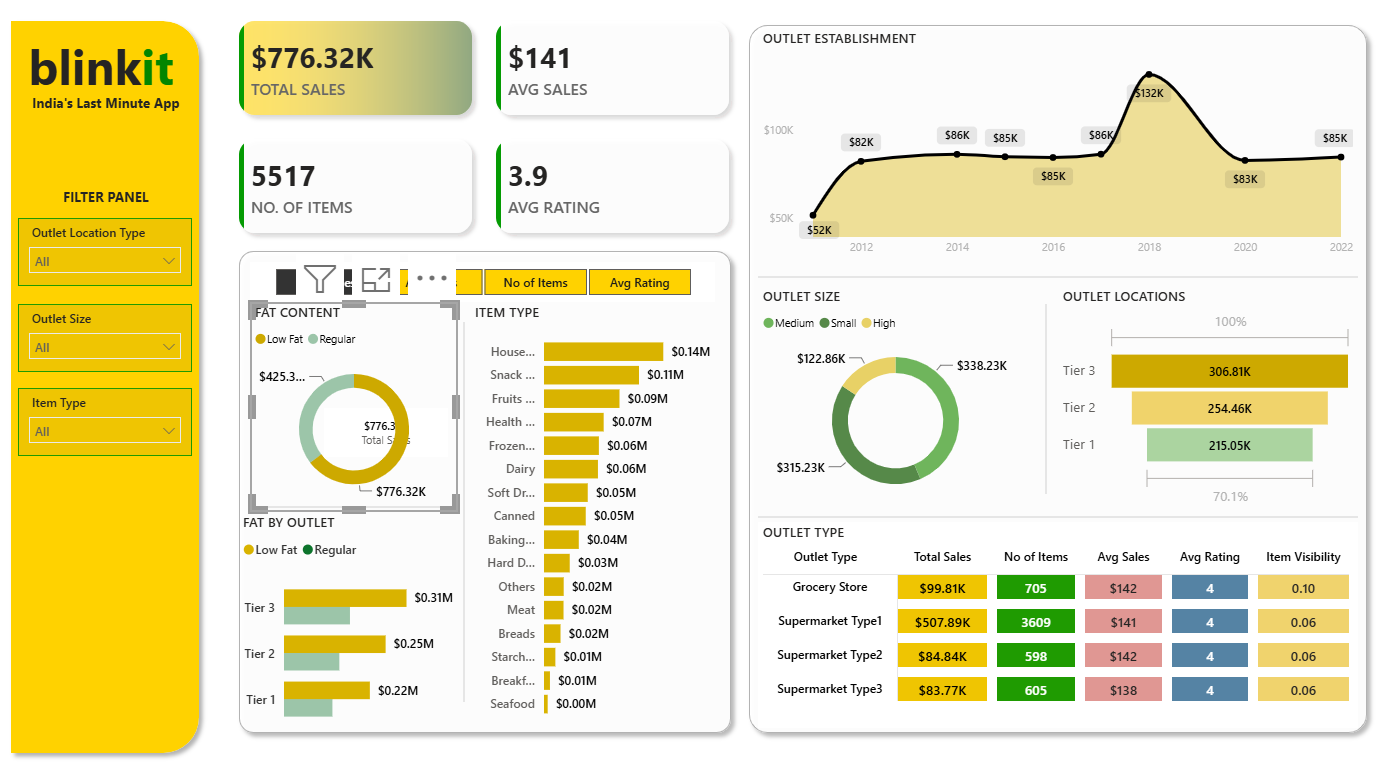

The page's visual inventory and layout, read from the dashboard file:
{"tool":"powerbi","page":{"name":"Page 1","canvas":[1400,800],"ordinal":0},"visuals":[{"type":"shape","box":[10,20,206,750],"z":0},{"type":"textbox","box":[18,36,182,76],"z":1000},{"type":"textbox","box":[28,96,172,30],"z":2000},{"type":"cardVisual","fields":{"Data":["BlinkIT Grocery Data.Total Sales","BlinkIT Grocery Data.Avg Sales","BlinkIT Grocery Data.No of Items","BlinkIT Grocery Data.Avg Rating"]},"box":[218,0,548,270],"z":3000},{"type":"shape","box":[237.5,250,510,500],"z":4000},{"type":"donutChart","title":"FAT CONTENT","fields":{"Y":["BlinkIT Grocery Data.Total Sales"],"Category":["BlinkIT Grocery Data.Item Fat Content"]},"box":[258,310,208,210],"z":5000},{"type":"slicer","fields":{"Values":["Metrics.Metrics"]},"box":[258.3,270,465,40],"z":6000},{"type":"cardVisual","fields":{"Data":["BlinkIT Grocery Data.Total Sales"]},"box":[332,416,124,54],"z":7000},{"type":"clusteredBarChart","title":"FAT BY OUTLET","fields":{"Y":["BlinkIT Grocery Data.Total Sales"],"Category":["BlinkIT Grocery Data.Outlet Location Type"],"Series":["BlinkIT Grocery Data.Item Fat Content"]},"box":[246,520,220,230],"z":8000},{"type":"shape","box":[274,510,174,10],"z":9000},{"type":"shape","box":[466,330,12,380],"z":10000},{"type":"barChart","title":"ITEM TYPE","fields":{"Y":["BlinkIT Grocery Data.Total Sales"],"Category":["BlinkIT Grocery Data.Item Type"]},"box":[478,310,246,426],"z":11000},{"type":"shape","box":[748,24,636,726],"z":12000},{"type":"lineChart","title":"OUTLET ESTABLISHMENT","fields":{"Y":["BlinkIT Grocery Data.Total Sales"],"Category":["BlinkIT Grocery Data.Outlet Establishment Year"]},"box":[766,36,600,236],"z":13000},{"type":"shape","box":[766,280,600,10],"z":14000},{"type":"donutChart","title":"OUTLET SIZE","fields":{"Y":["BlinkIT Grocery Data.Total Sales"],"Category":["BlinkIT Grocery Data.Outlet Size"]},"box":[766,294,275,225],"z":15000},{"type":"shape","box":[1042,312,24,190],"z":16000},{"type":"funnel","title":"OUTLET LOCATIONS","fields":{"Y":["Sum(BlinkIT Grocery Data.Sales)"],"Category":["BlinkIT Grocery Data.Outlet Location Type"]},"box":[1066,294,300,226],"z":17000},{"type":"shape","box":[766,520,600,10],"z":18000},{"type":"pivotTable","title":"OUTLET TYPE","fields":{"Rows":["BlinkIT Grocery Data.Outlet Type"],"Values":["BlinkIT Grocery Data.Total Sales","BlinkIT Grocery Data.No of Items","BlinkIT Grocery Data.Avg Sales","BlinkIT Grocery Data.Avg Rating","Avg(BlinkIT Grocery Data.Item Visibility)"]},"box":[766,530,600,206],"z":19000},{"type":"slicer","fields":{"Values":["BlinkIT Grocery Data.Outlet Location Type"]},"box":[26,226,174,68],"z":20000},{"type":"slicer","fields":{"Values":["BlinkIT Grocery Data.Outlet Size"]},"box":[26,312,174,68],"z":21000},{"type":"slicer","fields":{"Values":["BlinkIT Grocery Data.Item Type"]},"box":[26,396,174,68],"z":22000},{"type":"textbox","box":[56,190,116,36],"z":22001}]}

Visuals, with their boxes in screenshot pixels (x1, y1, x2, y2), scaled from the page's 1400x800 canvas onto the 1384x771 screenshot:
shape: detection(10, 19, 214, 742)
textbox: detection(18, 35, 198, 108)
textbox: detection(28, 93, 198, 121)
cardVisual - BlinkIT Grocery Data.Total Sales x BlinkIT Grocery Data.Avg Sales: detection(216, 0, 757, 260)
shape: detection(235, 241, 739, 723)
"FAT CONTENT" donutChart: detection(255, 299, 461, 501)
slicer - Metrics.Metrics: detection(255, 260, 715, 299)
cardVisual - BlinkIT Grocery Data.Total Sales: detection(328, 401, 451, 453)
"FAT BY OUTLET" clusteredBarChart: detection(243, 501, 461, 723)
shape: detection(271, 492, 443, 501)
shape: detection(461, 318, 473, 684)
"ITEM TYPE" barChart: detection(473, 299, 716, 709)
shape: detection(739, 23, 1368, 723)
"OUTLET ESTABLISHMENT" lineChart: detection(757, 35, 1350, 262)
shape: detection(757, 270, 1350, 279)
"OUTLET SIZE" donutChart: detection(757, 283, 1029, 500)
shape: detection(1030, 301, 1054, 484)
"OUTLET LOCATIONS" funnel: detection(1054, 283, 1350, 501)
shape: detection(757, 501, 1350, 511)
"OUTLET TYPE" pivotTable: detection(757, 511, 1350, 709)
slicer - BlinkIT Grocery Data.Outlet Location Type: detection(26, 218, 198, 283)
slicer - BlinkIT Grocery Data.Outlet Size: detection(26, 301, 198, 366)
slicer - BlinkIT Grocery Data.Item Type: detection(26, 382, 198, 447)
textbox: detection(55, 183, 170, 218)
